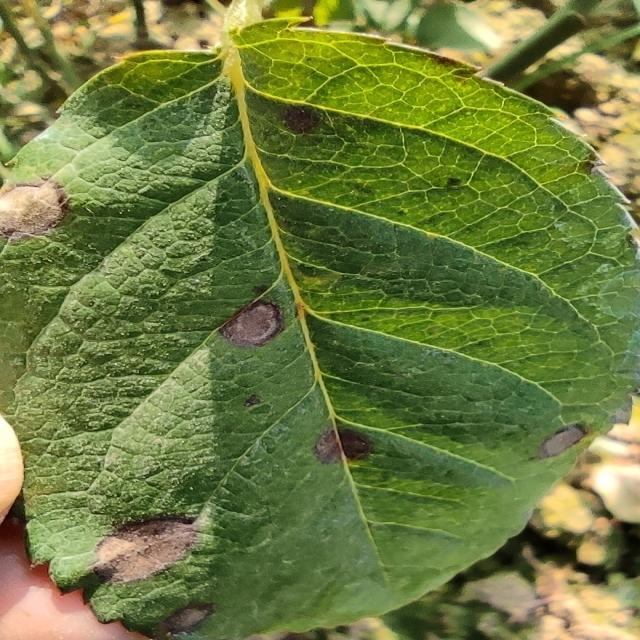Black_spot: (216, 296, 286, 350)
Rose: (0, 3, 638, 638)
